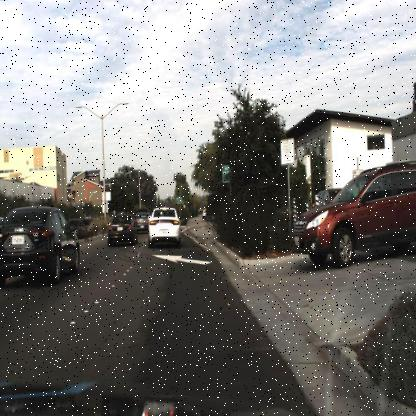car: (293, 155, 415, 272), (0, 205, 81, 288), (146, 205, 180, 249), (106, 212, 140, 249)
